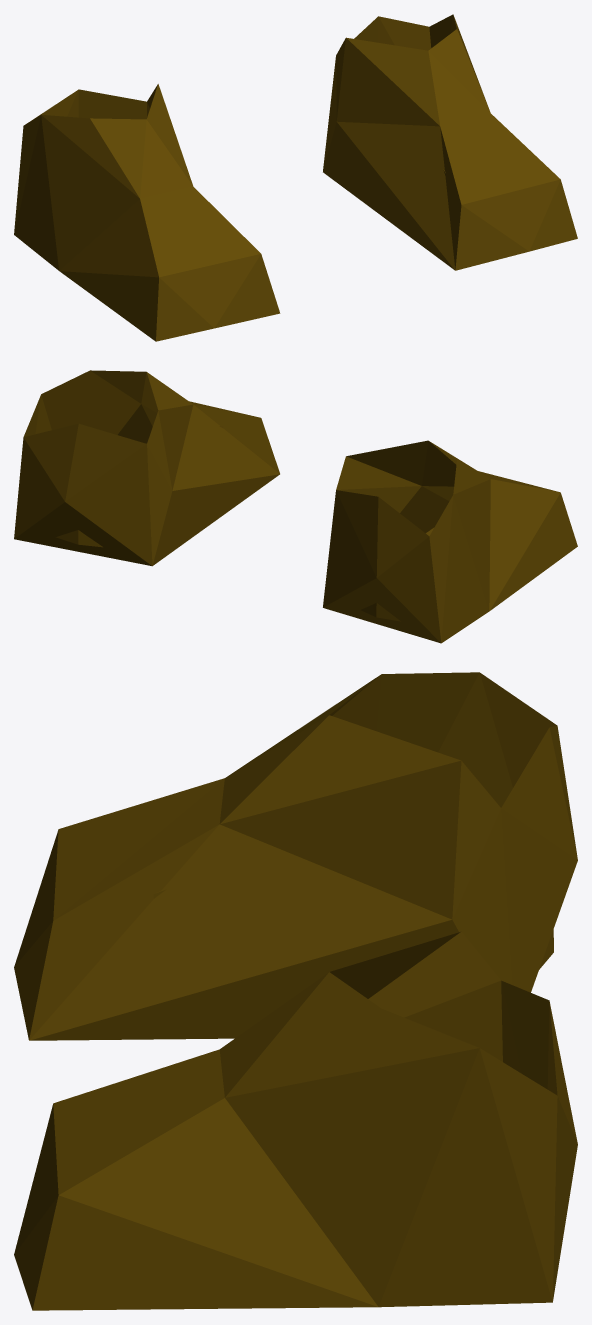
File: FarmerLBoot.fbx
3 renders of one model, top to bottom at view 1: azimuth 30°, elevation 25°; view 2: azimuth 150°, elevation 25°; view 3: azimuth 270°, elevation 25°, orthographic. The views are drawn at different scales.
Visible parts, largest first — view 1: pCube15, RBoot; view 2: RBoot, pCube15; view 3: RBoot, pCube15.
Part boxes in pixels (x1=…): pCube15: x1=14, y1=84, x2=280, y2=341; RBoot: x1=323, y1=14, x2=577, y2=270; RBoot: x1=14, y1=370, x2=279, y2=566; pCube15: x1=323, y1=440, x2=577, y2=643; RBoot: x1=14, y1=931, x2=577, y2=1310; pCube15: x1=14, y1=672, x2=577, y2=1040.
Bounding box in the file's own units: 1.2 × 0.3968 × 0.7265.
